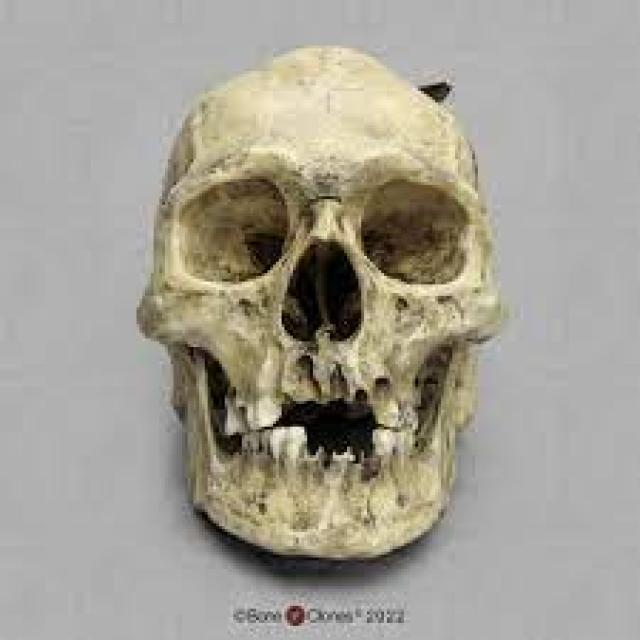skull: (144, 35, 508, 581)
